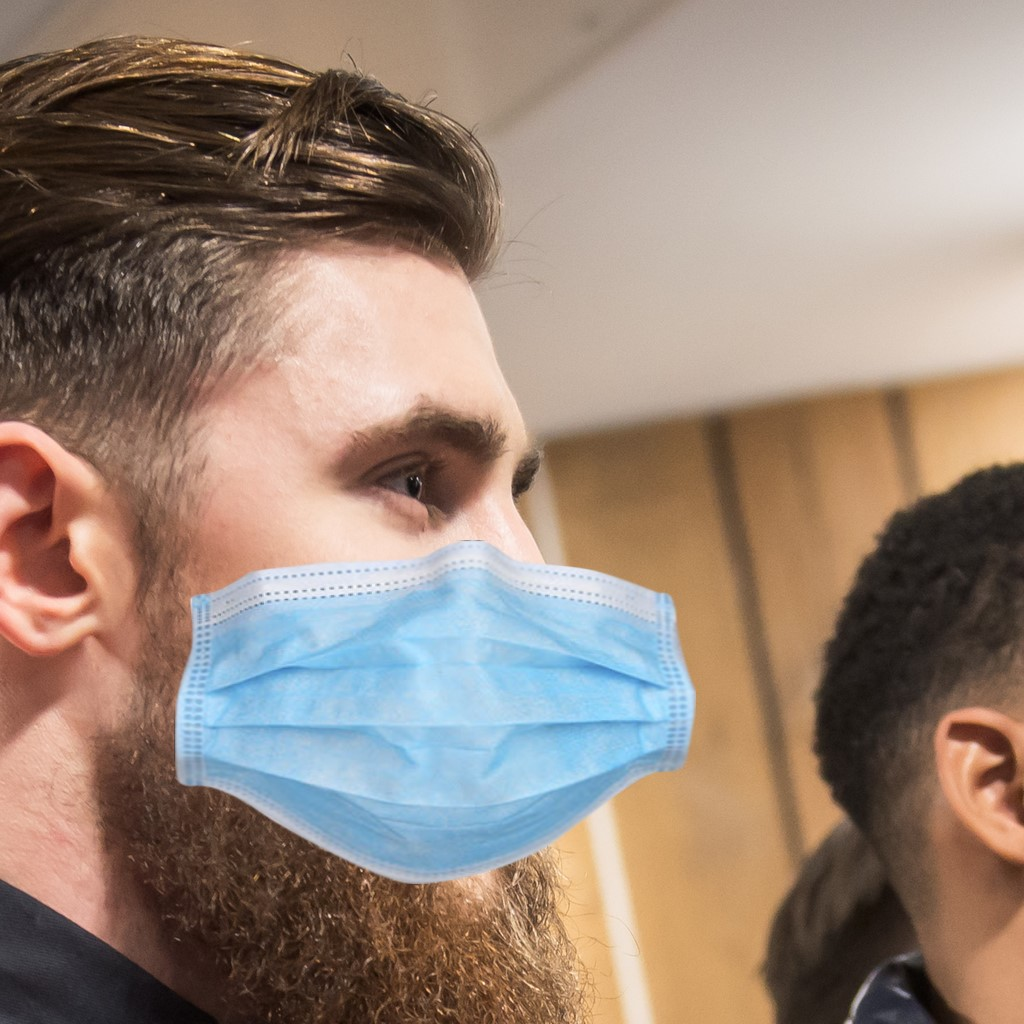con_mascara: (140, 141, 585, 945)
